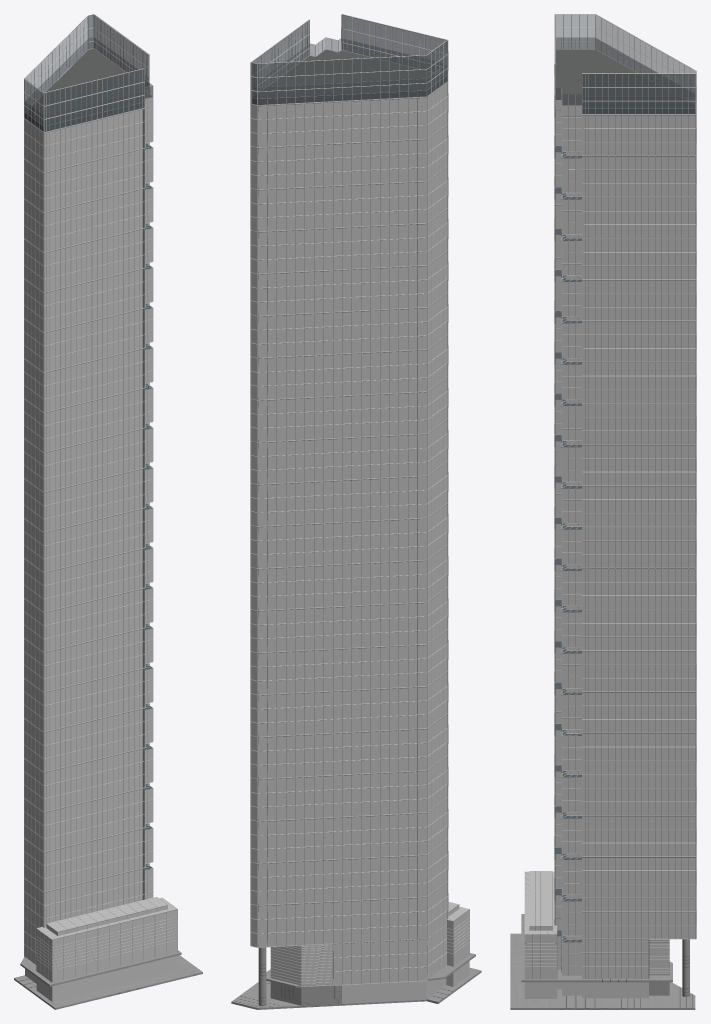
The model's file is Building _01_V3.fbx.
The picture shows the model from 3 angles, left to right: view 1: azimuth 30°, elevation 25°; view 2: azimuth 150°, elevation 25°; view 3: azimuth 270°, elevation 25°; orthographic projection. The views are drawn at different scales.
Parts seen in each view (by area): view 1: Cube.001, Cube.002, Cube.007, Cube, Cube.003, Cube.010, Cube.008, Cube.009, Cube.005; view 2: Cube.001, Cube.002, Cube.003, Cube.005, Cube.006, Cube.011, Cube.008, Cube.012, Cube.007; view 3: Cube.001, Cube, Cube.002, Cube.003, Cube.007, Cube.008, Cube.005, Cube.011, Cube.009, Cube.004, Cube.006, Cube.010 (+1 smaller).
Boxes of the visible parts, box(x1,y1,x2,y2) form: Cube.001: box(24, 108, 149, 927); Cube.002: box(24, 14, 149, 132); Cube.007: box(36, 897, 177, 982); Cube: box(145, 108, 153, 899); Cube.003: box(25, 37, 153, 131); Cube.010: box(36, 956, 177, 1001); Cube.008: box(14, 955, 202, 1009); Cube.009: box(20, 950, 181, 986); Cube.005: box(24, 918, 36, 964); Cube.001: box(250, 82, 448, 947); Cube.002: box(250, 14, 448, 105); Cube.003: box(251, 37, 446, 104); Cube.005: box(332, 925, 446, 985); Cube.006: box(270, 944, 332, 986); Cube.011: box(342, 978, 446, 1003); Cube.008: box(231, 967, 481, 1009); Cube.012: box(270, 982, 341, 1006); Cube.007: box(447, 902, 469, 966); Cube.001: box(554, 105, 696, 939); Cube: box(555, 110, 581, 936); Cube.002: box(554, 14, 696, 114); Cube.003: box(555, 37, 694, 117); Cube.007: box(524, 871, 557, 979); Cube.008: box(510, 933, 695, 1009); Cube.005: box(582, 939, 648, 978); Cube.011: box(557, 982, 648, 998); Cube.009: box(521, 914, 672, 982); Cube.004: box(557, 930, 581, 975); Cube.006: box(649, 939, 669, 978); Cube.010: box(524, 982, 557, 998).
Bounding box in the file's own units: 2736 × 15896 × 2895.
